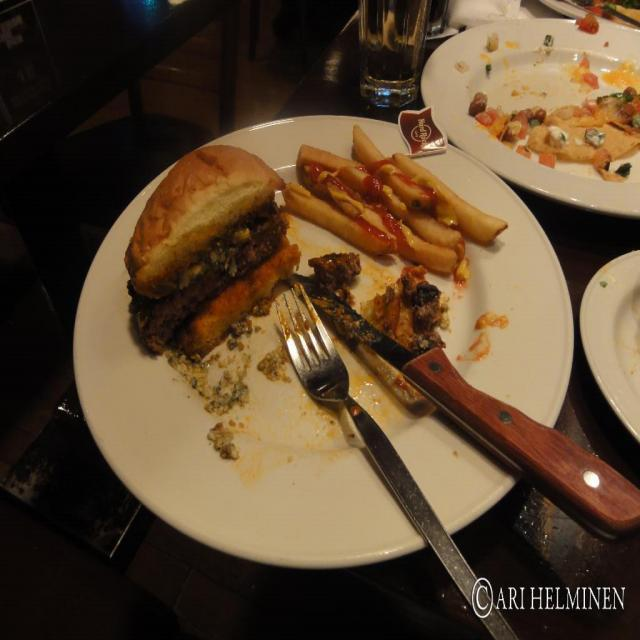Hamburger: (123, 148, 304, 362)
